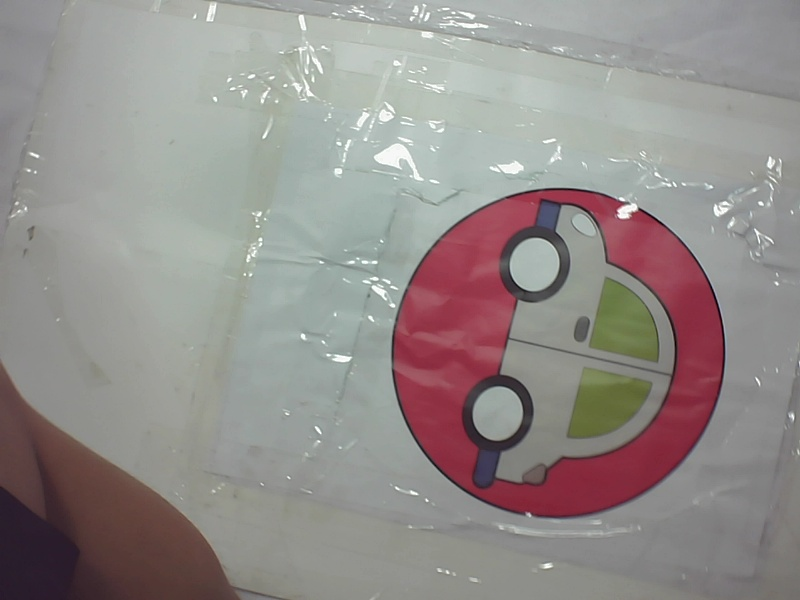areaC: (381, 166, 738, 520)
